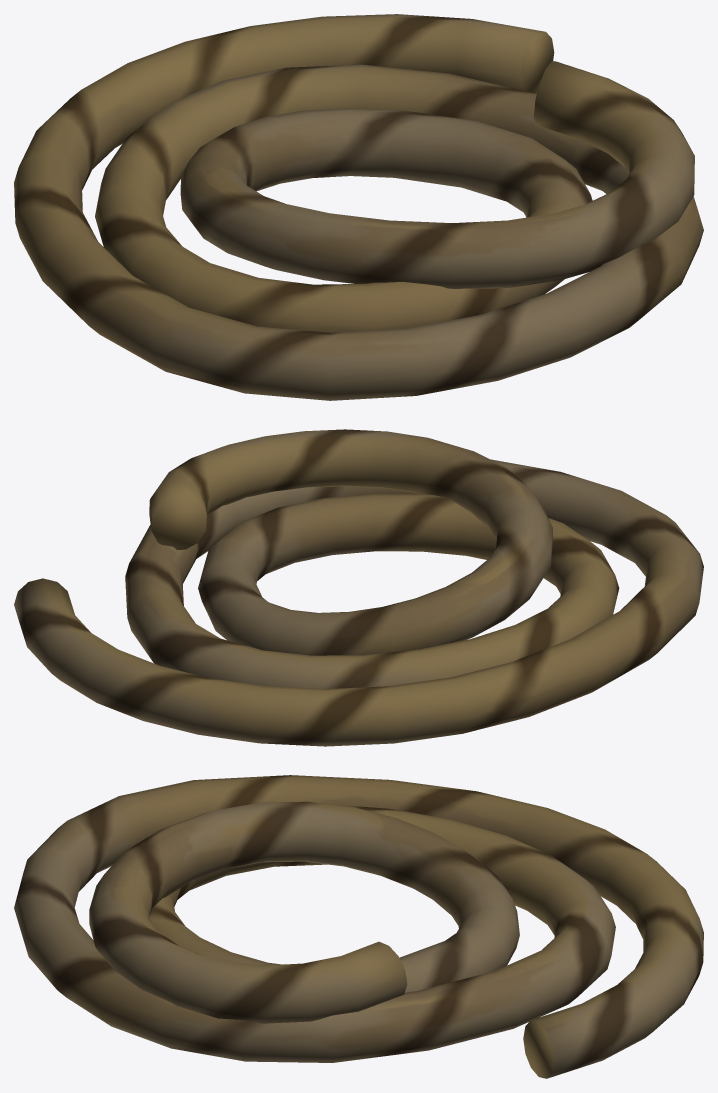
File: Rope_1.gltf
3 renders of one model, top to bottom at view 1: azimuth 30°, elevation 25°; view 2: azimuth 150°, elevation 25°; view 3: azimuth 270°, elevation 25°, orthographic. The views are drawn at different scales.
Visible parts, largest first — view 1: Rope_1; view 2: Rope_1; view 3: Rope_1.
Boxes of the visible parts, bbox=[...] form: Rope_1: bbox=[14, 14, 703, 400]; Rope_1: bbox=[14, 429, 703, 746]; Rope_1: bbox=[14, 775, 703, 1078].
Size of the model in its own units: 0.5574 by 0.0978 by 0.6063.
1 material, 1 textured.
